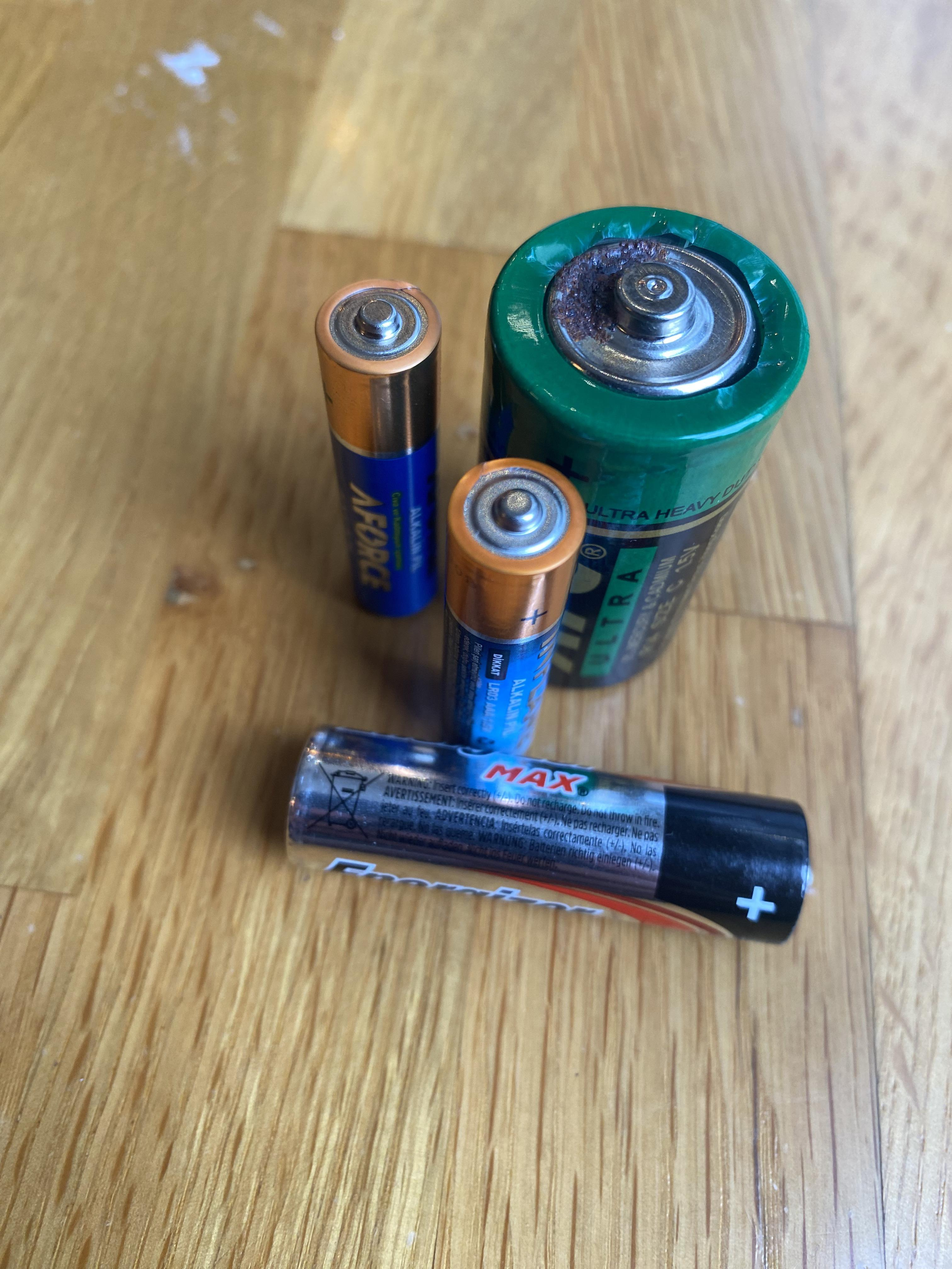AA: (280, 721, 821, 952), (433, 454, 594, 758), (312, 277, 447, 621)
